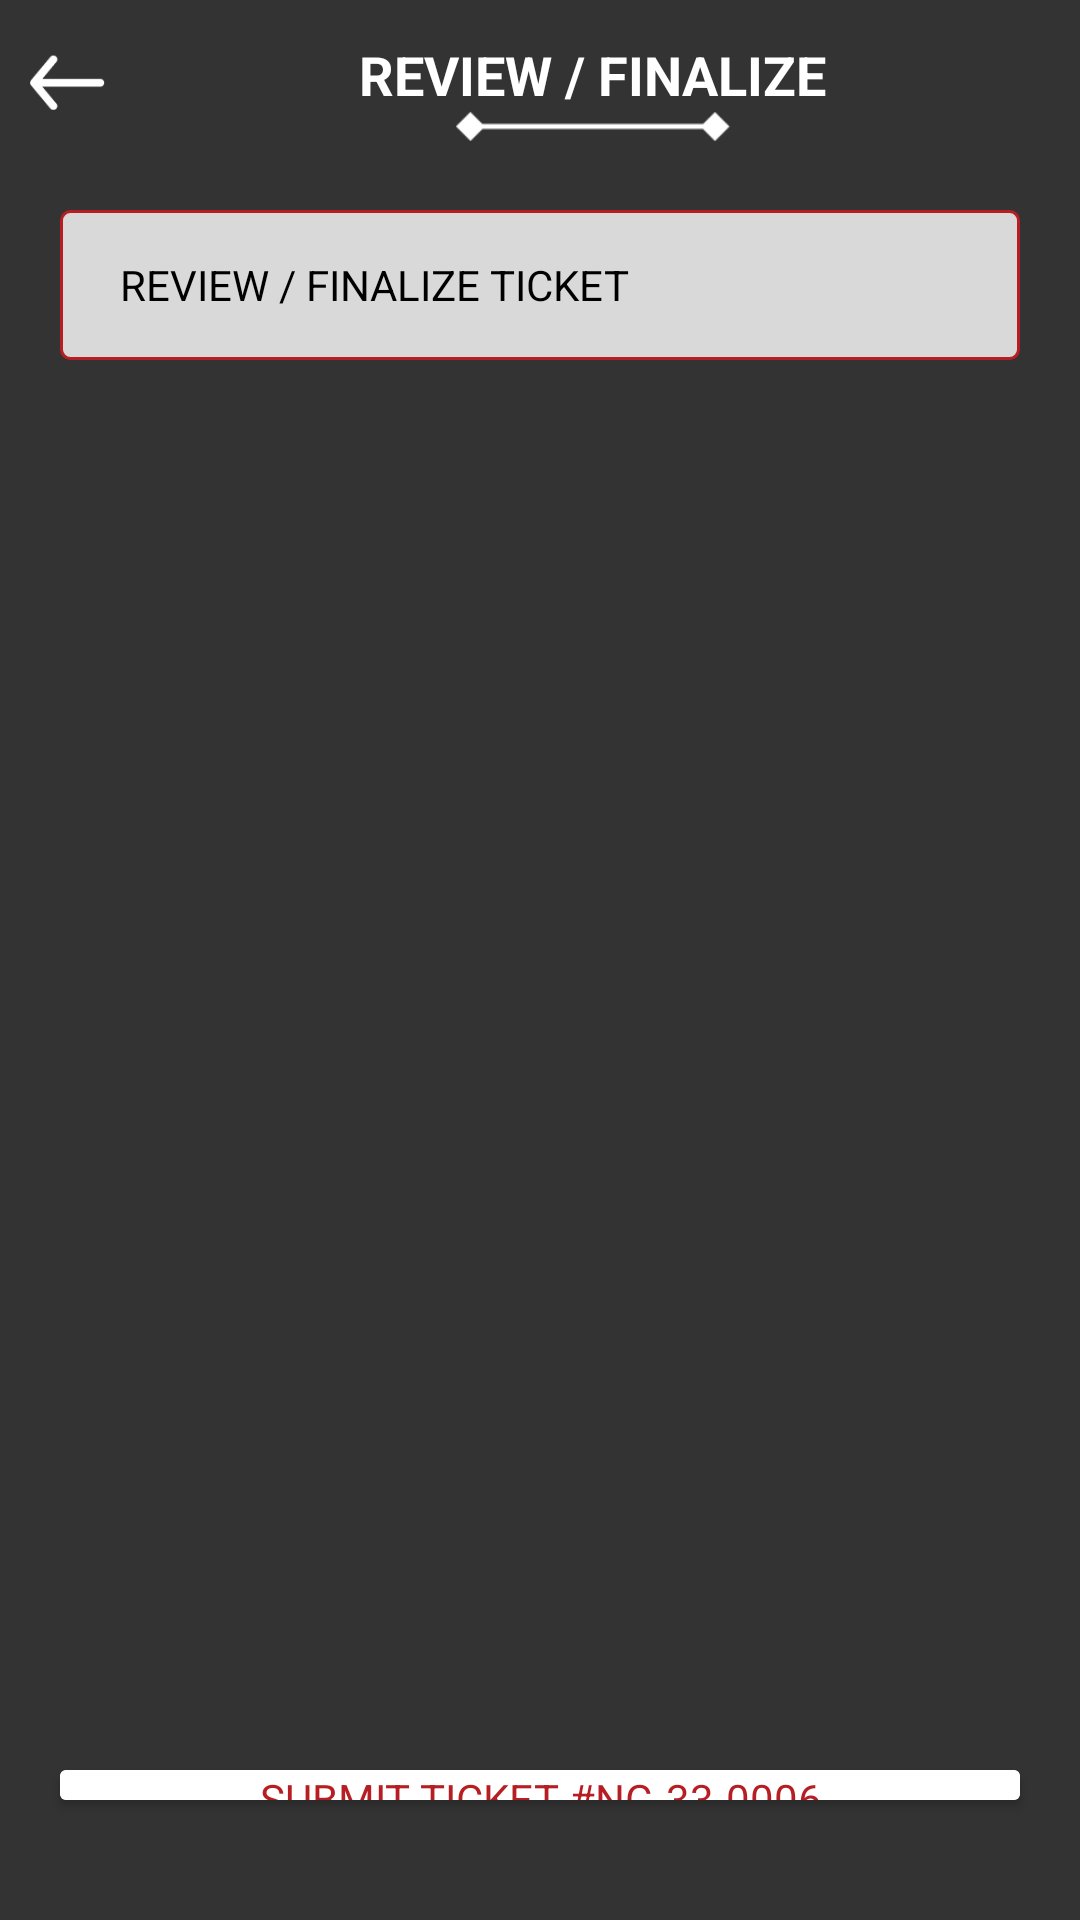

Where icons sit on this 1080w x 1920h app screen, as (x1, y1, x2, y2):
back arroe: (30, 55, 105, 110)
